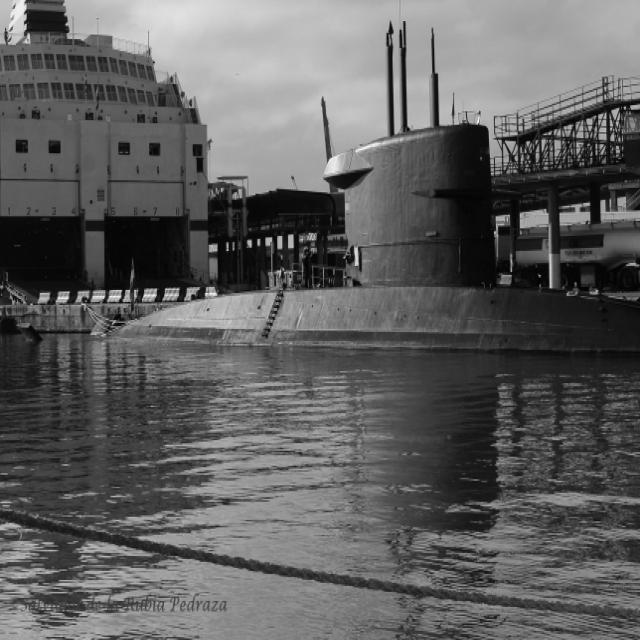submarine: (107, 124, 640, 354)
